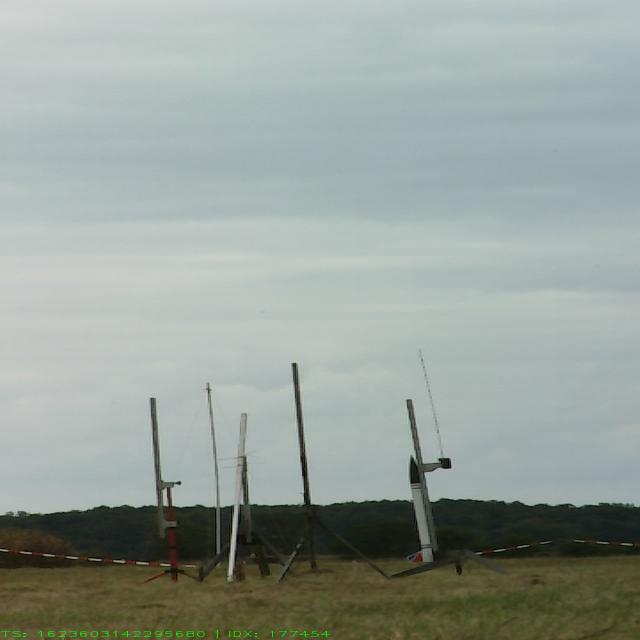Rocket: (404, 455, 440, 564)
